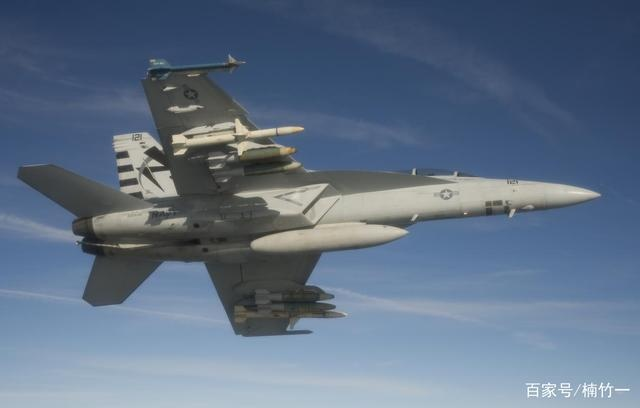airplane: (11, 53, 601, 343)
